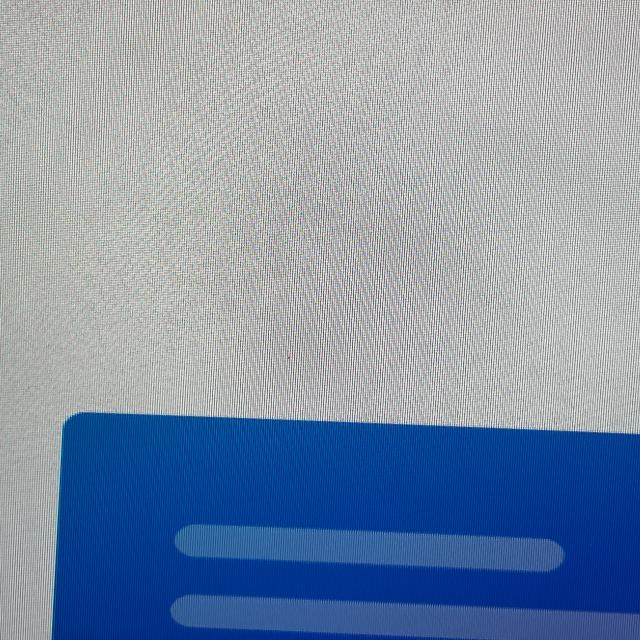Dead pixel: (287, 356, 291, 359)
